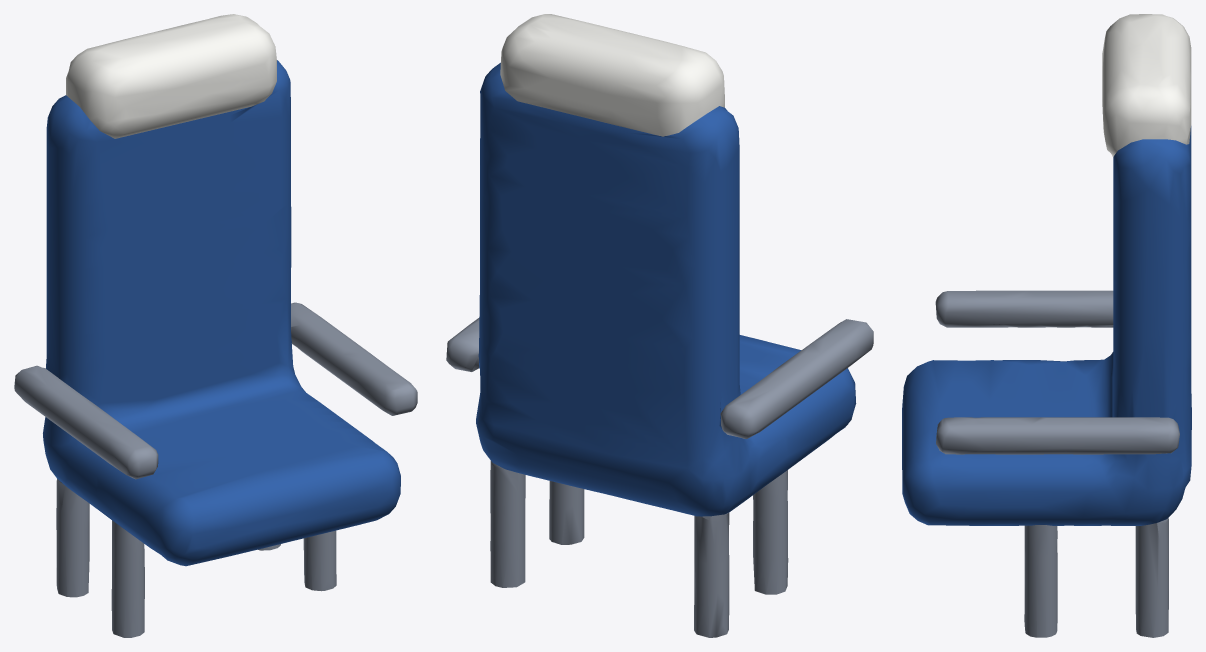
The model's file is seat.glb.
3 views of the same model, side by side, from view 1: azimuth 30°, elevation 25°; view 2: azimuth 150°, elevation 25°; view 3: azimuth 270°, elevation 25° (orthographic). The views are drawn at different scales.
Visible parts, largest first — view 1: root; view 2: root; view 3: root.
Part boxes in pixels (x1,y1,x2,y2): root: (14,14,417,637); root: (446,14,873,637); root: (902,14,1191,637).
Size of the model in its own units: 0.6093 by 1.06 by 0.5211.
